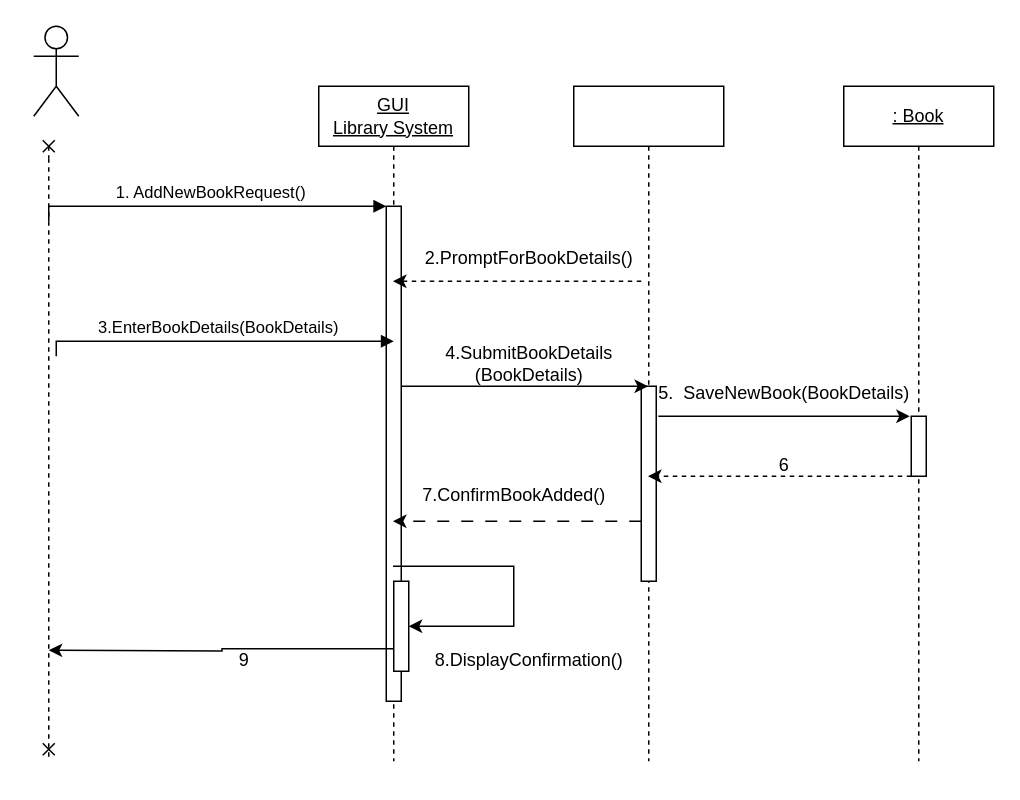
Some shapes in this 1020 by 800 pixel diagram are drawn without their labels. Each missing label, with the centre of its shape:
": Admin" goes at pixel 55 70.
": BookController" goes at pixel 648 423.
